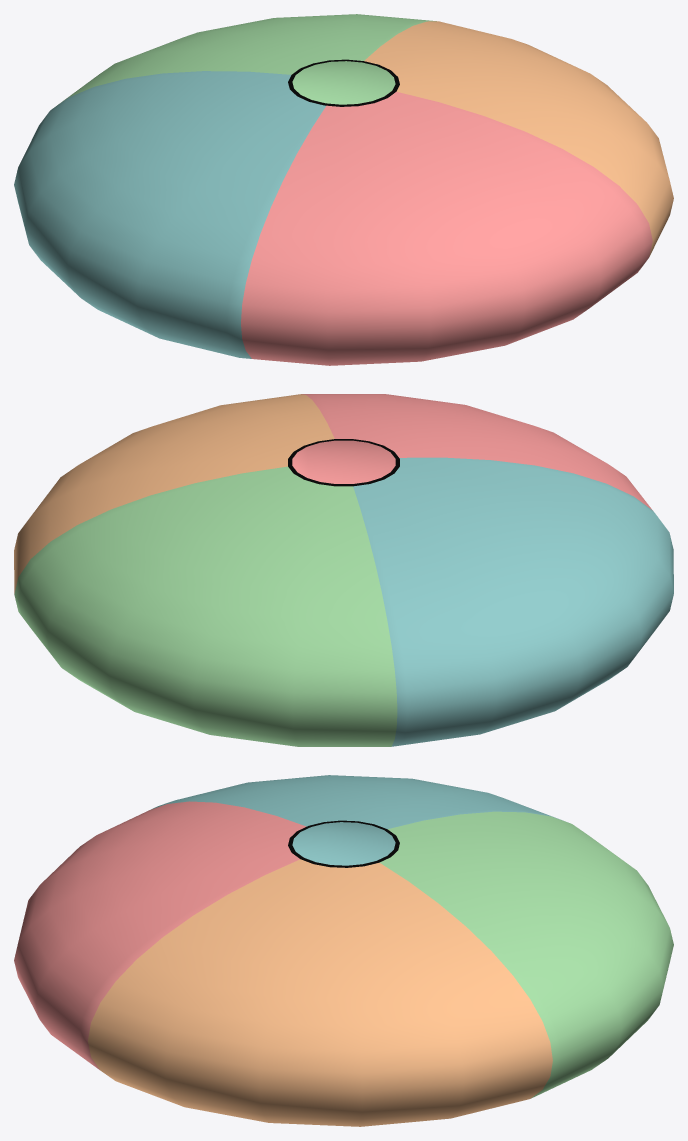
Rendered from cam_05.fbx.
3 views of the same model, one above another, from view 1: azimuth 30°, elevation 25°; view 2: azimuth 150°, elevation 25°; view 3: azimuth 270°, elevation 25° (orthographic).
Parts seen in each view (by area): view 1: Room_01:polySurface2; view 2: Room_01:polySurface2; view 3: Room_01:polySurface2.
Part boxes in pixels (<box>): Room_01:polySurface2: <box>14,14,673,365</box>; Room_01:polySurface2: <box>14,394,673,746</box>; Room_01:polySurface2: <box>14,775,673,1126</box>.
Bounding box in the file's own units: 571 × 160 × 571.
